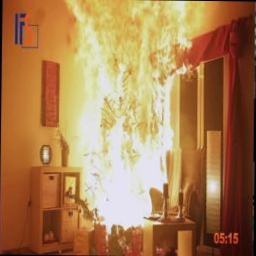fire: (52, 0, 197, 233)
